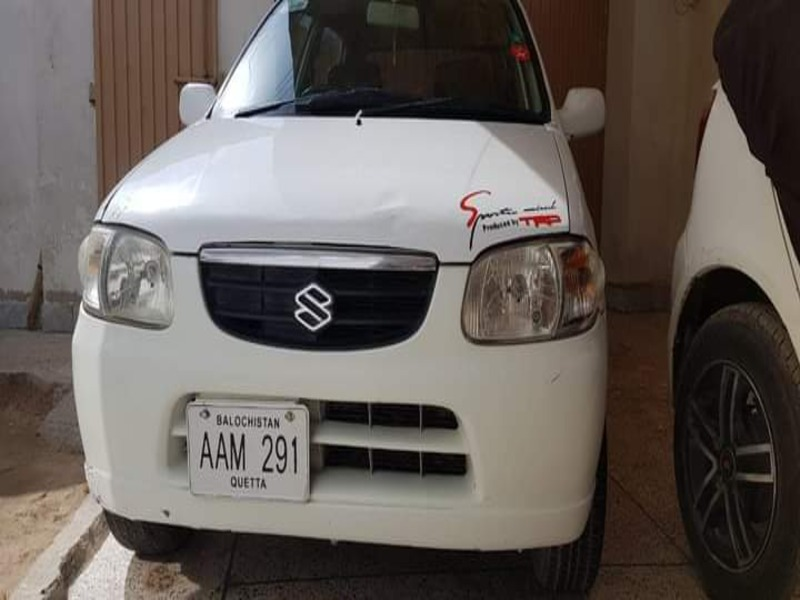License Plate: (183, 399, 314, 507)
